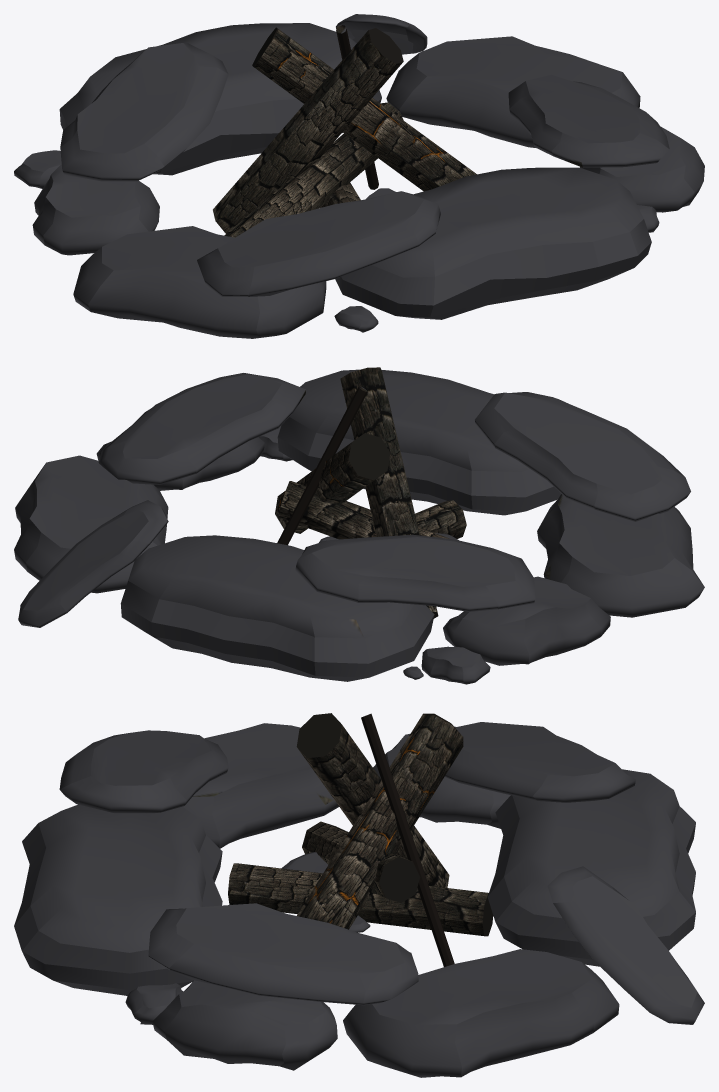
File: CC_Fireplace.fbx
The picture shows the model from 3 angles, top to bottom: view 1: azimuth 30°, elevation 25°; view 2: azimuth 150°, elevation 25°; view 3: azimuth 270°, elevation 25°; orthographic projection. The views are drawn at different scales.
Parts seen in each view (by area): view 1: pCube70; view 2: pCube70; view 3: pCube70.
Part boxes in pixels (x1,y1,x2,y2): pCube70: [14, 14, 704, 338]; pCube70: [14, 367, 704, 684]; pCube70: [14, 713, 704, 1077].
Size of the model in its own units: 61.72 by 20.7 by 53.96.
